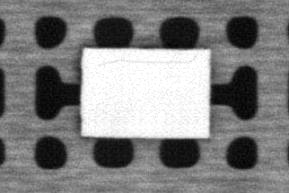DIE_CRACK: (97, 51, 198, 68)
